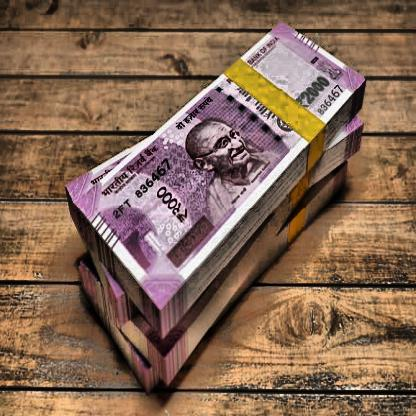Rs2000: (292, 71, 333, 113)
